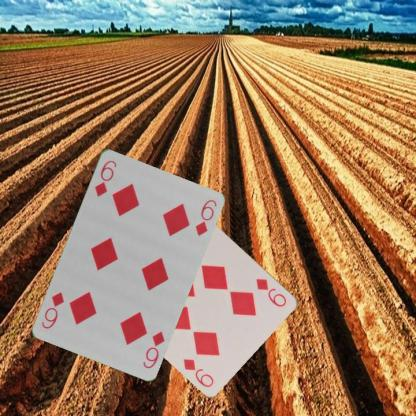6d: (140, 328, 166, 370), (92, 157, 118, 198)
9d: (254, 275, 288, 308)
